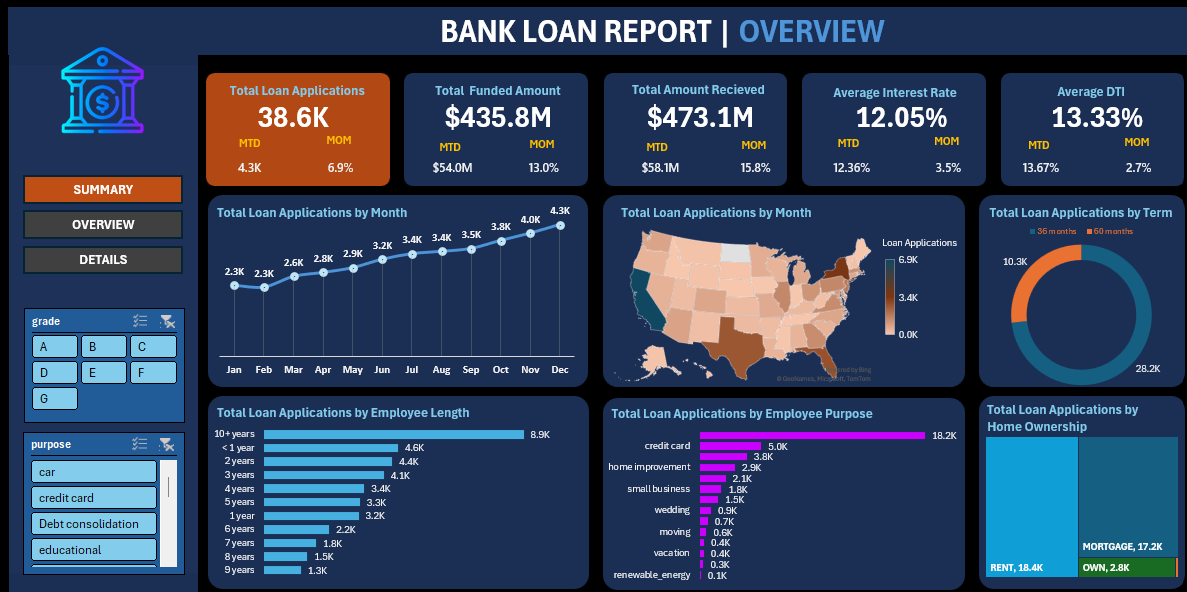

This screenshot's page, from the dashboard's own definition file:
{"tool":"powerbi","page":{"name":"Overview","canvas":[1920,1080],"ordinal":1},"visuals":[{"type":"shape","box":[0,0,1279,56.3],"z":0},{"type":"shape","box":[639.3,56,192.8,124],"z":0,"group":"g3"},{"type":"shape","box":[859.8,56,195,117],"z":0,"group":"g4"},{"type":"shape","box":[198.5,56.9,195,128],"z":0,"group":"g1"},{"type":"shape","box":[418.9,58,192.8,124],"z":0,"group":"g2"},{"type":"shape","box":[1080.3,58.1,195,117],"z":0,"group":"g5"},{"type":"cardVisual","fields":{"Data":["bank_loan_data.Avg DTI"]},"box":[1099.1,76.9,159.5,47.6],"z":1000,"group":"g5"},{"type":"cardVisual","fields":{"Data":["bank_loan_data.Total Amount Received"]},"box":[658.9,78.3,158.2,40.3],"z":1000,"group":"g3"},{"type":"cardVisual","fields":{"Data":["bank_loan_data.Total Loan Applications"]},"box":[230.9,79.1,122.6,41.7],"z":1000,"group":"g1"},{"type":"cardVisual","fields":{"Data":["bank_loan_data.Total Funded Amount"]},"box":[437.3,82.5,162.4,40.7],"z":1000,"group":"g2"},{"type":"cardVisual","fields":{"Data":["bank_loan_data.Avg Interest Rate"]},"box":[876.5,83.2,159.5,38],"z":1000,"group":"g4"},{"type":"shape","box":[196.7,187.8,405,235],"z":1000},{"type":"shape","box":[0,54.9,191.5,638],"z":2000},{"type":"textbox","box":[878.4,60,176.7,30.2],"z":2000,"group":"g4"},{"type":"textbox","box":[657.7,60.2,174.8,32],"z":2000,"group":"g3"},{"type":"textbox","box":[1116.2,60.3,124.3,23],"z":2000,"group":"g5"},{"type":"textbox","box":[217.1,61.2,176.7,33.1],"z":2000,"group":"g1"},{"type":"textbox","box":[437.3,62.2,174.8,32],"z":2000,"group":"g2"},{"type":"textbox","box":[428.9,7.8,488.9,46.7],"z":3000},{"type":"cardVisual","title":"MTD","fields":{"Data":["bank_loan_data.MTD Avg Int Rate"]},"box":[857.9,120.3,101.2,53.6],"z":3000,"group":"g4"},{"type":"cardVisual","title":"MTD","fields":{"Data":["bank_loan_data.MTD Avg DTI"]},"box":[1078.4,122.4,101.2,53.6],"z":3000,"group":"g5"},{"type":"cardVisual","title":"MTD","fields":{"Data":["bank_loan_data.MTD Loan Applications"]},"box":[211.7,124,71.1,59.6],"z":3000,"group":"g1"},{"type":"cardVisual","title":"MTD","fields":{"Data":["bank_loan_data.MTD Total Amount Received"]},"box":[637.5,124.2,100.1,56.8],"z":3000,"group":"g3"},{"type":"cardVisual","title":"MTD","fields":{"Data":["bank_loan_data.MTD Funded Amount"]},"box":[417.1,126.2,100.1,56.8],"z":3000,"group":"g2"},{"type":"group","id":"g1","title":"Group 1","box":[198.5,56.9,195.3,128],"z":4000},{"type":"cardVisual","title":"MOM","fields":{"Data":["bank_loan_data.MoM Avg Int Rate"]},"box":[968.5,122,76.2,54.8],"z":4000,"group":"g4"},{"type":"cardVisual","title":"MOM","fields":{"Data":["bank_loan_data.MoM Avg DTI"]},"box":[1189,124.1,76.2,54.8],"z":4000,"group":"g5"},{"type":"cardVisual","title":"MOM","fields":{"Data":["bank_loan_data.MoM Total Amount Recieved"]},"box":[746.9,125.9,75.3,58.1],"z":4000,"group":"g3"},{"type":"cardVisual","title":"MOM","fields":{"Data":["bank_loan_data.MoM Loan Application"]},"box":[310.4,126.7,68.9,55.9],"z":4000,"group":"g1"},{"type":"cardVisual","title":"MOM","fields":{"Data":["bank_loan_data.MoM Total Funded Amount"]},"box":[526.5,127.9,75.3,58.1],"z":4000,"group":"g2"},{"type":"group","id":"g2","title":"Group 1","box":[417.1,58,195,128],"z":5000},{"type":"group","id":"g3","title":"Group 1","box":[637.5,56,195,128],"z":6000},{"type":"group","id":"g4","title":"Group 1","box":[857.9,56,197.2,120.7],"z":7000},{"type":"group","id":"g5","title":"Group 1","box":[1078.4,58.1,196.9,120.7],"z":8000},{"type":"slicer","fields":{"Values":["bank_loan_data.address_state"]},"box":[19.7,478.9,152.2,37.8],"z":9000},{"type":"textbox","box":[28.2,452.1,47.9,26.8],"z":10000},{"type":"slicer","fields":{"Values":["bank_loan_data.grade"]},"box":[19.7,560.6,152.2,37.8],"z":11000},{"type":"textbox","box":[28.2,529.6,47.9,31],"z":12000},{"type":"slicer","fields":{"Values":["bank_loan_data.Good v Bad Loan"]},"box":[21.1,639.4,152.2,37.8],"z":13000},{"type":"textbox","box":[28.2,611.3,119.7,28.2],"z":14000},{"type":"areaChart","fields":{"Category":["Date Table.Month"],"Y":["bank_loan_data.Total Loan Applications"]},"box":[196.9,190.4,404.7,251],"z":15000},{"type":"slicer","fields":{"Values":["Select Measure.Select Measure"]},"box":[19.7,407,152,37],"z":16000},{"type":"textbox","box":[28.2,377.5,90.1,29.6],"z":17000},{"type":"shape","box":[614.9,186.2,367.8,235.6],"z":18000},{"type":"shapeMap","fields":{"Category":["bank_loan_data.address_state"],"Value":["bank_loan_data.Total Loan Applications"]},"box":[616.8,188.3,365.7,253.2],"z":19000},{"type":"shape","box":[997.7,188.5,280.5,235.6],"z":20000},{"type":"donutChart","fields":{"Category":["bank_loan_data.term"],"Y":["bank_loan_data.Total Loan Applications"]},"box":[997.7,190.4,279.2,251],"z":21000},{"type":"shape","box":[198.8,442.5,405,235],"z":22000},{"type":"barChart","fields":{"Category":["bank_loan_data.emp_length"],"Y":["bank_loan_data.Total Loan Applications"]},"box":[198.9,442.5,405,235],"z":23000},{"type":"shape","box":[616.1,442.5,367,235],"z":24000},{"type":"barChart","fields":{"Category":["bank_loan_data.purpose"],"Y":["bank_loan_data.Total Loan Applications"]},"box":[616.1,442.5,367,235],"z":25000},{"type":"shape","box":[997.7,442.5,280.5,235.6],"z":26000},{"type":"treemap","fields":{"Group":["bank_loan_data.home_ownership"],"Values":["bank_loan_data.Total Loan Applications"]},"box":[997.7,442.5,280,235],"z":27000},{"type":"pageNavigator","box":[9.9,177.5,162,149.3],"z":28000},{"type":"image","box":[18.3,46.5,146.5,107],"z":29000}]}

Visuals, with their boxes on the page's 1920x1080 design canvas (x1, y1, x2, y2). These are canvas units, not pixel positions in the 1187x592 screenshot, which may show the page scaled, cropped or inside an application window:
shape: crop(0, 0, 1279, 56)
shape: crop(639, 56, 832, 180)
shape: crop(860, 56, 1055, 173)
shape: crop(198, 57, 394, 185)
shape: crop(419, 58, 612, 182)
shape: crop(1080, 58, 1275, 175)
cardVisual - bank_loan_data.Avg DTI: crop(1099, 77, 1259, 124)
cardVisual - bank_loan_data.Total Amount Received: crop(659, 78, 817, 119)
cardVisual - bank_loan_data.Total Loan Applications: crop(231, 79, 354, 121)
cardVisual - bank_loan_data.Total Funded Amount: crop(437, 82, 600, 123)
cardVisual - bank_loan_data.Avg Interest Rate: crop(876, 83, 1036, 121)
shape: crop(197, 188, 602, 423)
shape: crop(0, 55, 192, 693)
textbox: crop(878, 60, 1055, 90)
textbox: crop(658, 60, 832, 92)
textbox: crop(1116, 60, 1240, 83)
textbox: crop(217, 61, 394, 94)
textbox: crop(437, 62, 612, 94)
textbox: crop(429, 8, 918, 54)
"MTD" cardVisual: crop(858, 120, 959, 174)
"MTD" cardVisual: crop(1078, 122, 1180, 176)
"MTD" cardVisual: crop(212, 124, 283, 184)
"MTD" cardVisual: crop(638, 124, 738, 181)
"MTD" cardVisual: crop(417, 126, 517, 183)
"Group 1" group: crop(198, 57, 394, 185)
"MOM" cardVisual: crop(968, 122, 1045, 177)
"MOM" cardVisual: crop(1189, 124, 1265, 179)
"MOM" cardVisual: crop(747, 126, 822, 184)
"MOM" cardVisual: crop(310, 127, 379, 183)
"MOM" cardVisual: crop(526, 128, 602, 186)
"Group 1" group: crop(417, 58, 612, 186)
"Group 1" group: crop(638, 56, 832, 184)
"Group 1" group: crop(858, 56, 1055, 177)
"Group 1" group: crop(1078, 58, 1275, 179)
slicer - bank_loan_data.address_state: crop(20, 479, 172, 517)
textbox: crop(28, 452, 76, 479)
slicer - bank_loan_data.grade: crop(20, 561, 172, 598)
textbox: crop(28, 530, 76, 561)
slicer - bank_loan_data.Good v Bad Loan: crop(21, 639, 173, 677)
textbox: crop(28, 611, 148, 640)
areaChart - Date Table.Month x bank_loan_data.Total Loan Applications: crop(197, 190, 602, 441)
slicer - Select Measure.Select Measure: crop(20, 407, 172, 444)
textbox: crop(28, 378, 118, 407)
shape: crop(615, 186, 983, 422)
shapeMap - bank_loan_data.address_state x bank_loan_data.Total Loan Applications: crop(617, 188, 982, 442)
shape: crop(998, 188, 1278, 424)
donutChart - bank_loan_data.term x bank_loan_data.Total Loan Applications: crop(998, 190, 1277, 441)
shape: crop(199, 442, 604, 678)
barChart - bank_loan_data.emp_length x bank_loan_data.Total Loan Applications: crop(199, 442, 604, 678)
shape: crop(616, 442, 983, 678)
barChart - bank_loan_data.purpose x bank_loan_data.Total Loan Applications: crop(616, 442, 983, 678)
shape: crop(998, 442, 1278, 678)
treemap - bank_loan_data.home_ownership x bank_loan_data.Total Loan Applications: crop(998, 442, 1278, 678)
pageNavigator: crop(10, 178, 172, 327)
image: crop(18, 46, 165, 154)
